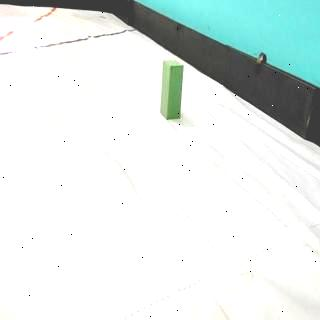greenbox: (160, 60, 183, 120)
